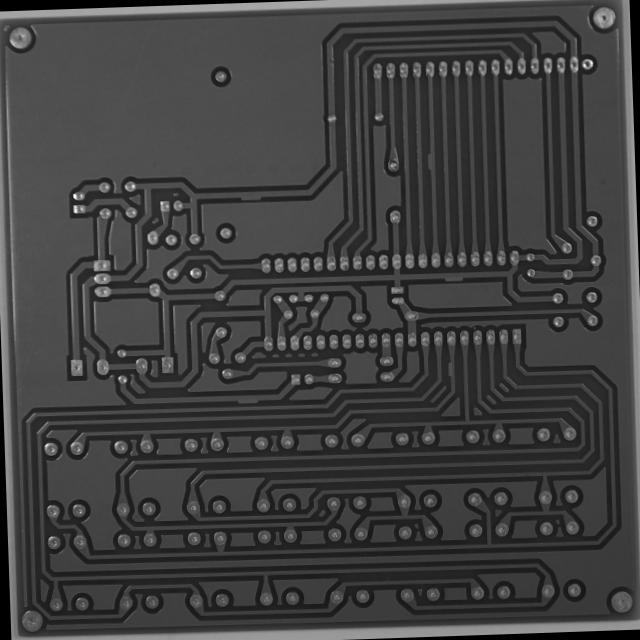spur: (421, 146, 440, 174), (235, 188, 266, 204), (438, 268, 467, 284), (234, 392, 262, 406), (442, 358, 457, 378)
